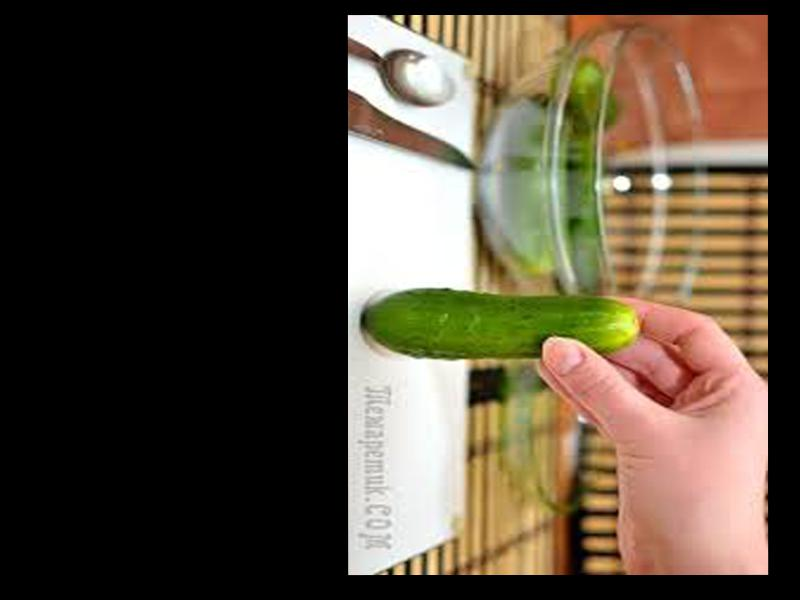Cucumber: (364, 288, 639, 359)
